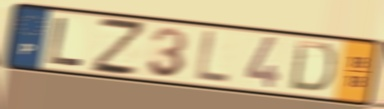3: (147, 25, 191, 79)
4: (243, 34, 282, 92)
D: (287, 38, 339, 95)
L: (193, 29, 232, 87), (46, 15, 87, 68)
Z: (89, 15, 146, 78)
